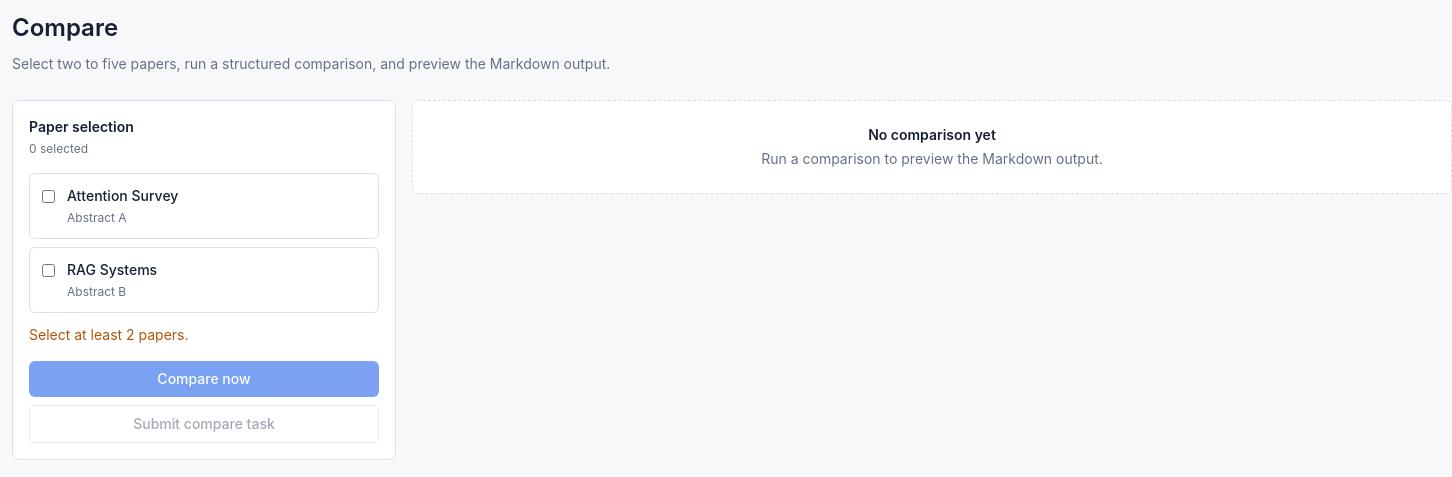
Scenario: ComparePage › submits a compare task
Click the checkbox labelled "Attention Survey Abstract A": {"x": 48, "y": 196} [42,190,55,203]
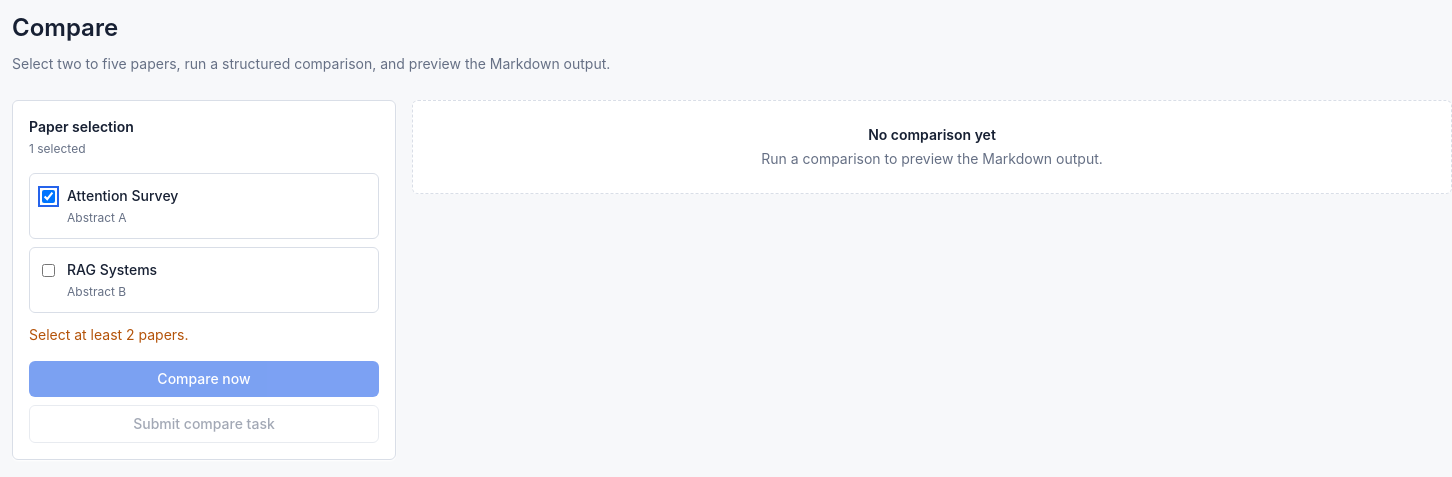
Click the checkbox labelled "RAG Systems Abstract B": {"x": 48, "y": 270} [42,264,55,277]
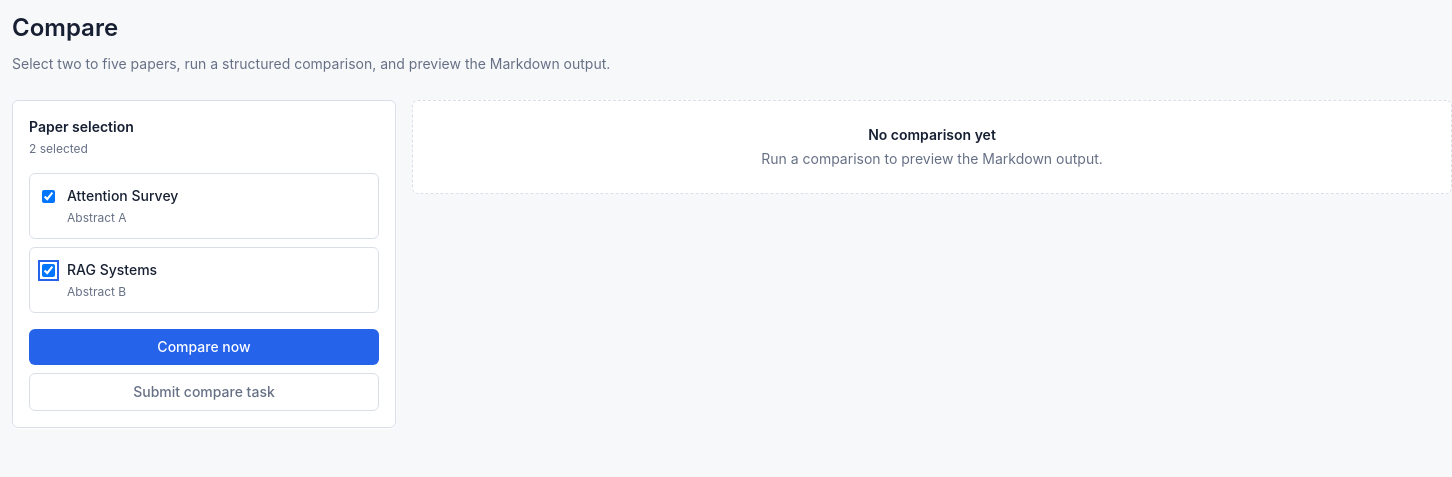
Click the button "Submit compare task": {"x": 204, "y": 392} [29,373,379,411]
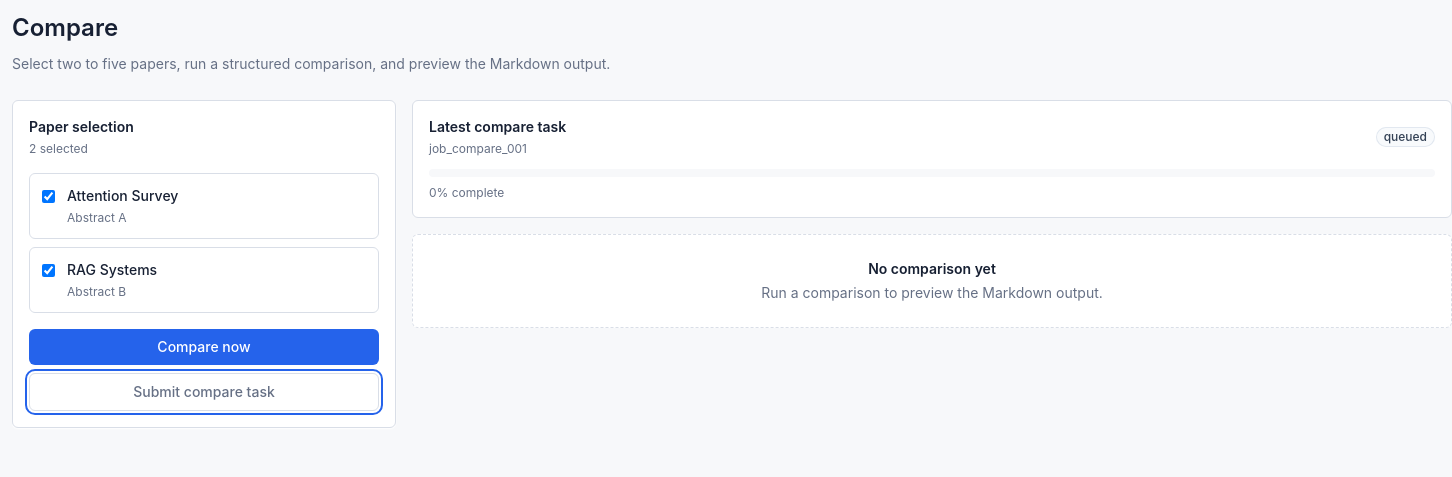
expect the text "job_compare_001" is shown: met, box [429,141,527,156]
